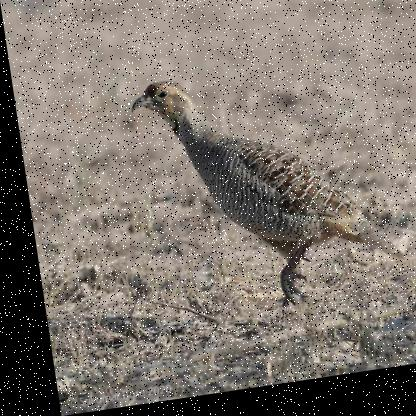Burung: (124, 60, 399, 329)
